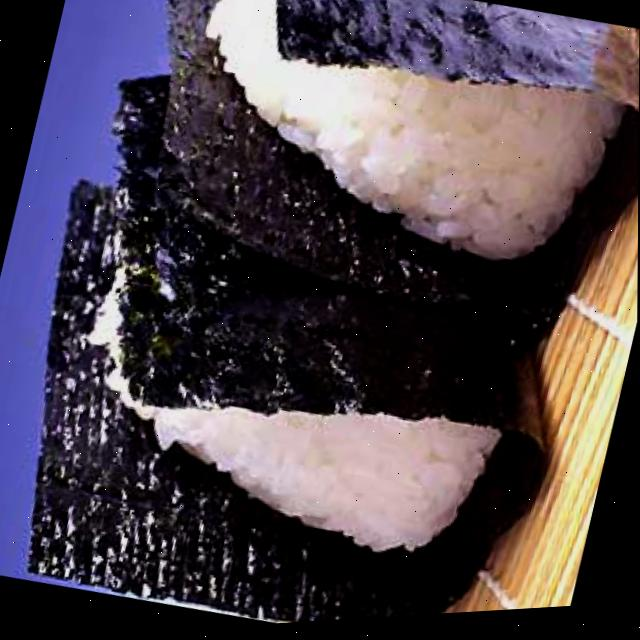米饭主食: (0, 20, 635, 640), (87, 0, 640, 387)
